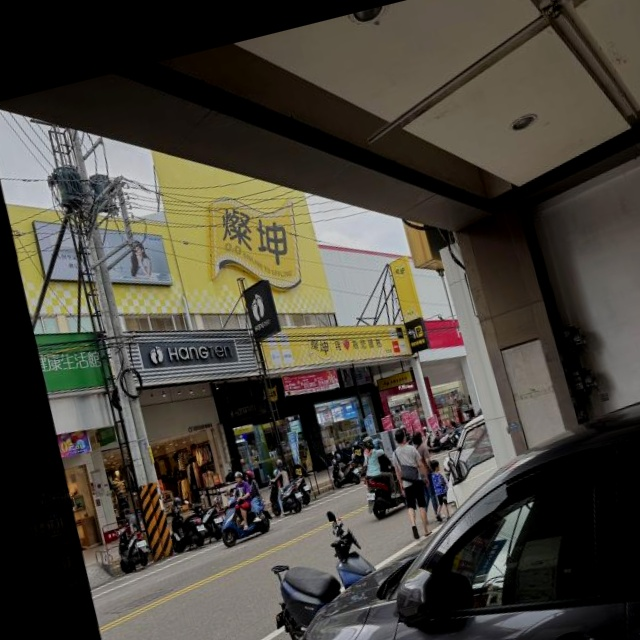Sin_Casco_Mascarrilla: (394, 428, 407, 446), (411, 430, 424, 446), (430, 458, 441, 472)
Sin_Chaleco: (393, 443, 420, 483), (431, 472, 447, 496), (278, 467, 291, 488)
